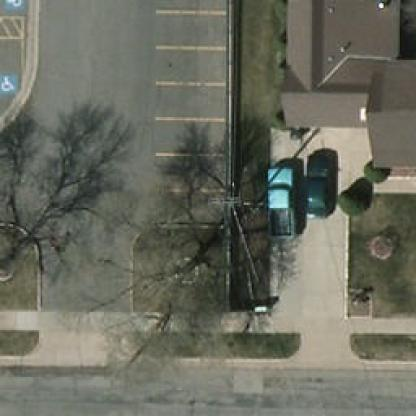car: (307, 156, 335, 213)
pickup: (268, 169, 299, 239)
